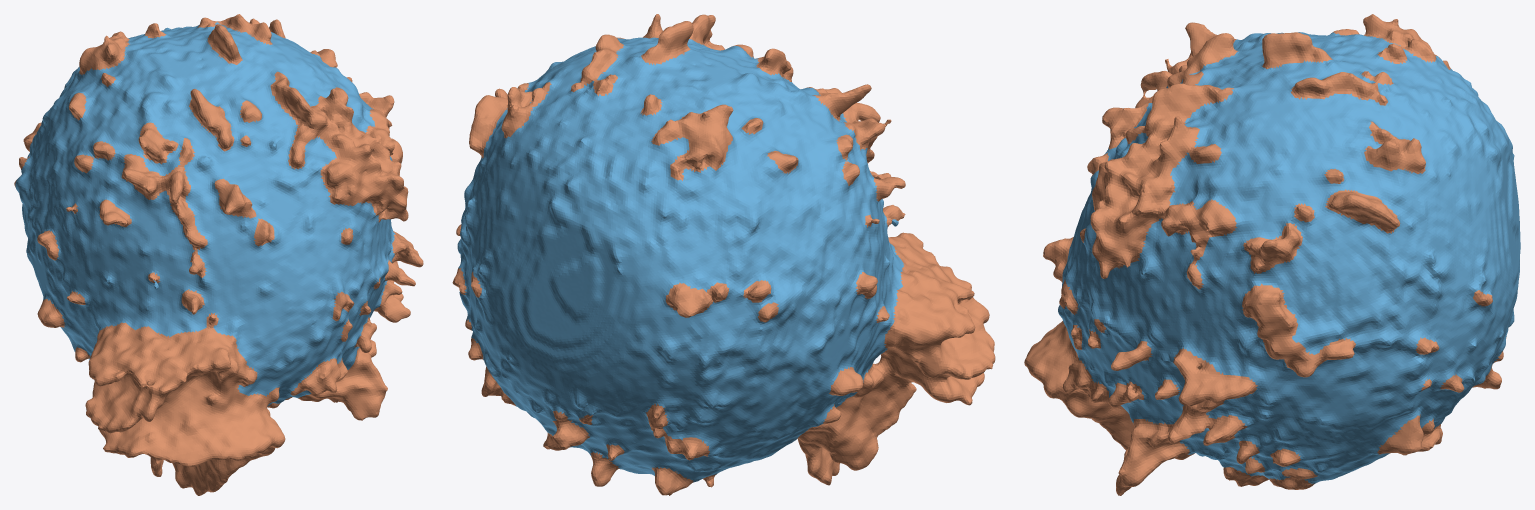
3 views of the same model, side by side, from view 1: azimuth 30°, elevation 25°; view 2: azimuth 150°, elevation 25°; view 3: azimuth 270°, elevation 25° (orthographic). The views are drawn at different scales.
Bounding box in the file's own units: 145 × 154 × 145.
